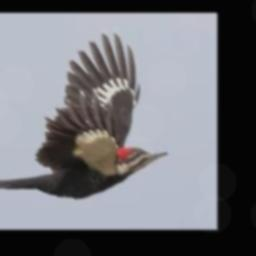Woodpecker: (0, 33, 169, 198)
